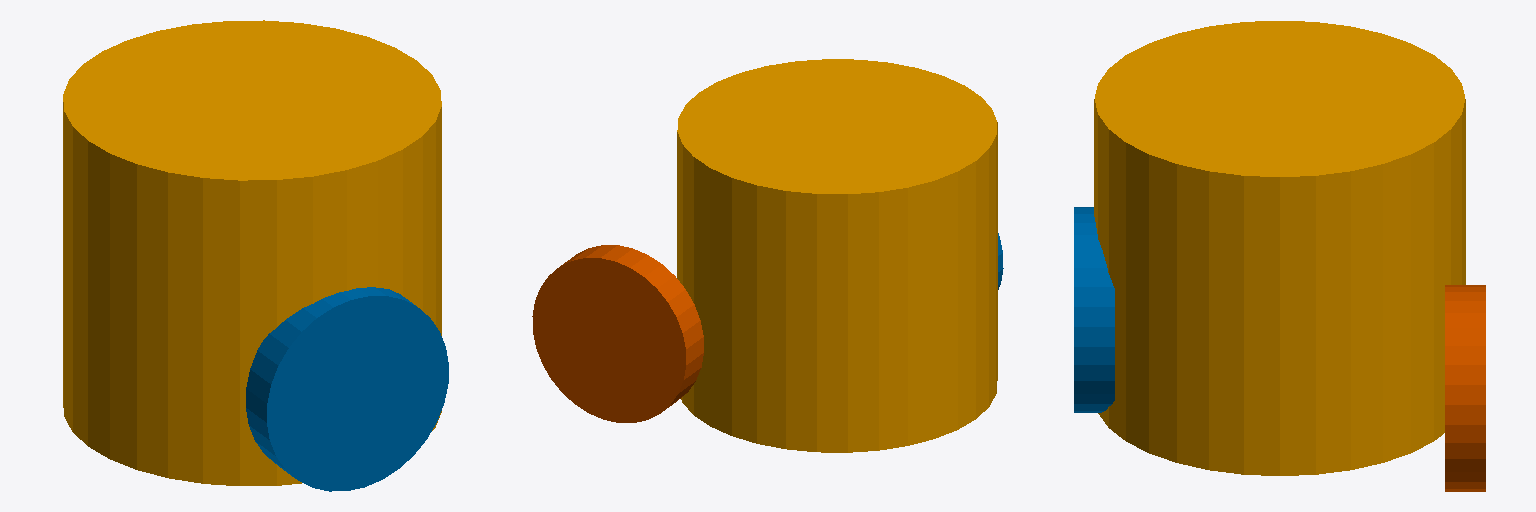
robot.urdf — [local-path]/OneDrive/Desktop/Robot.urdf:
<?xml version="1.0"?>
<robot name="C:/Users/rares/OneDrive/Desktop/Robot.urdf" xmlns:xacro="http://ros.org/wiki/xacro">
  <link name="base_link">
    <visual>
      <origin xyz="0 0 0.0415" rpy="0 0 -1.570796"/>
      <geometry>
        <cylinder radius="0.045" length="0.08"/>
      </geometry>
    </visual>
    <collision>
      <origin xyz="0 0 0.0415" rpy="0 0 -1.570796"/>
      <geometry>
        <cylinder radius="0.045" length="0.08"/>
      </geometry>
    </collision>
  </link>
  <link name="camera">
  </link>
  <joint name="base_link_camera_joint" type="fixed">
    <parent link="base_link"/>
    <child link="camera"/>
    <origin xyz="0.04 0 0.0915" rpy="-1.570796 0 -1.570796"/>
  </joint>
  <link name="ds1">
  </link>
  <joint name="base_link_ds1_joint" type="fixed">
    <parent link="base_link"/>
    <child link="ds1"/>
    <origin xyz="0.042 -0.02 0.063" rpy="0 0 -0.500795"/>
  </joint>
  <link name="ds0">
  </link>
  <joint name="base_link_ds0_joint" type="fixed">
    <parent link="base_link"/>
    <child link="ds0"/>
    <origin xyz="0.042 0.02 0.063" rpy="0 0 0.499205"/>
  </joint>
  <joint name="right wheel motor" type="continuous">
    <parent link="base_link"/>
    <child link="right wheel"/>
    <axis xyz="-1 0 0"/>
    <limit effort="10" velocity="10"/>
    <origin xyz="0 0 0.025" rpy="-0.125039 0 -1.570796"/>
  </joint>
  <link name="right wheel">
    <visual>
      <origin xyz="0.045 0 0" rpy="-1.570796 0 1.57"/>
      <geometry>
        <cylinder radius="0.025" length="0.01"/>
      </geometry>
    </visual>
    <collision>
      <origin xyz="0.045 0 0" rpy="-1.570796 0 1.57"/>
      <geometry>
        <cylinder radius="0.025" length="0.01"/>
      </geometry>
    </collision>
  </link>
  <joint name="left wheel motor" type="continuous">
    <parent link="base_link"/>
    <child link="left wheel"/>
    <axis xyz="-1 0 0"/>
    <limit effort="10" velocity="10"/>
    <origin xyz="0.045 0 0.025" rpy="0.27228 0 -1.570796"/>
  </joint>
  <link name="left wheel">
    <visual>
      <origin xyz="-0.045 0 0" rpy="-1.570796 0 1.57"/>
      <geometry>
        <cylinder radius="0.025" length="0.01"/>
      </geometry>
    </visual>
    <collision>
      <origin xyz="-0.045 0 0" rpy="-1.570796 0 1.57"/>
      <geometry>
        <cylinder radius="0.025" length="0.01"/>
      </geometry>
    </collision>
  </link>
</robot>

--- Render facts (derived) ---
Views: 3 orthographic renders of the robot side by side, from view 1: azimuth 30°, elevation 25°; view 2: azimuth 150°, elevation 25°; view 3: azimuth 270°, elevation 25°.
Robot: [local-path]/OneDrive/Desktop/Robot.urdf — 6 links, 5 joints (2 continuous, 3 fixed); root link base_link; default pose: every joint at zero.
Visible links, largest first — view 1: base_link, right wheel; view 2: base_link, left wheel; view 3: base_link, left wheel, right wheel.
Link boxes in pixels (x1=…): base_link: x1=63, y1=20, x2=441, y2=485; right wheel: x1=246, y1=287, x2=448, y2=491; base_link: x1=677, y1=59, x2=997, y2=452; left wheel: x1=532, y1=245, x2=703, y2=422; base_link: x1=1094, y1=21, x2=1465, y2=475; left wheel: x1=1445, y1=285, x2=1485, y2=491; right wheel: x1=1074, y1=207, x2=1114, y2=412.
Size in the robot's own frame: 0.1149 by 0.1 by 0.0814 metres.
Geometry: primitives only (box / cylinder / sphere), no mesh files.
